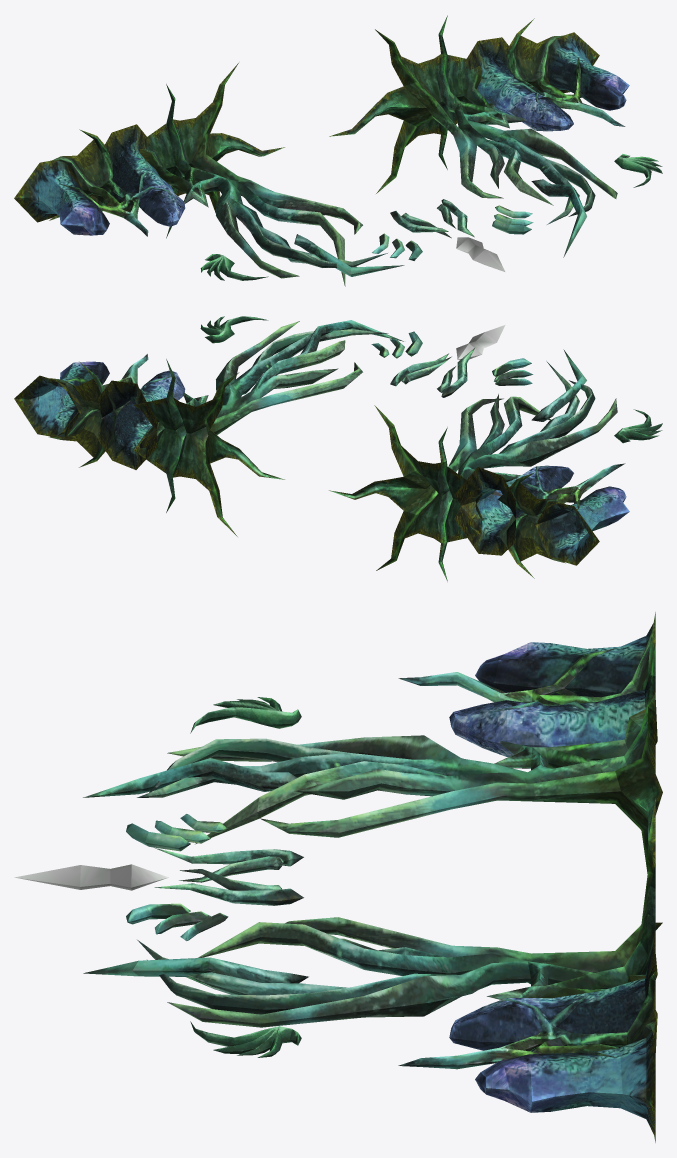
The model's file is zhanchang_fuben_214_men.obj.
3 views of the same model, one above another, from view 1: azimuth 30°, elevation 25°; view 2: azimuth 150°, elevation 25°; view 3: azimuth 270°, elevation 25° (orthographic). The views are drawn at different scales.
Parts seen in each view (by area): view 1: zhanchang_fuben_214_men, liuguang01; view 2: zhanchang_fuben_214_men, liuguang01; view 3: zhanchang_fuben_214_men, liuguang01.
Part boxes in pixels (x1,y1,x2,y2): zhanchang_fuben_214_men: (14,15,662,286); liuguang01: (456,237,505,271); zhanchang_fuben_214_men: (14,316,662,581); liuguang01: (456,325,505,359); zhanchang_fuben_214_men: (83,612,662,1142); liuguang01: (14,864,168,890).
Bounding box in the file's own units: 299 × 81.29 × 178.
Materials: 3 (3 with a texture image).
